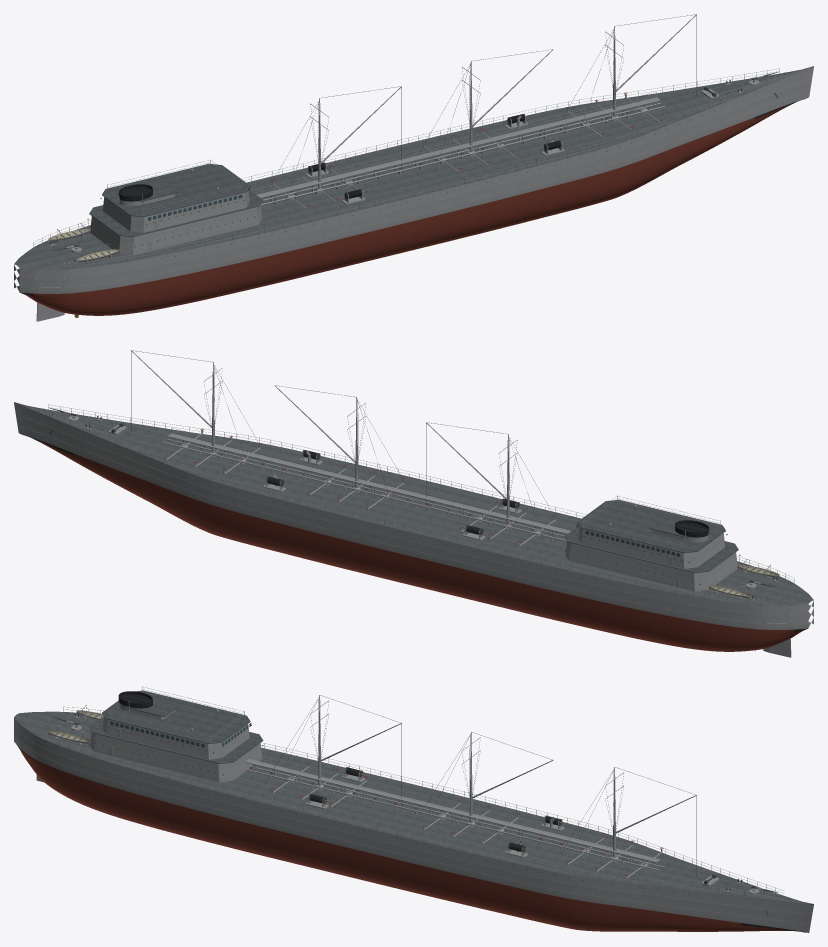
File: de_support_1942.glb
3 views of the same model, one above another, from view 1: azimuth 30°, elevation 25°; view 2: azimuth 150°, elevation 25°; view 3: azimuth 330°, elevation 25° (orthographic).
Visible parts, largest first — view 1: Fleet support ship · 1942; view 2: Fleet support ship · 1942; view 3: Fleet support ship · 1942.
Boxes of the visible parts, box(x1,y1,x2,y2) form: Fleet support ship · 1942: box(14, 14, 813, 321); Fleet support ship · 1942: box(14, 350, 813, 657); Fleet support ship · 1942: box(14, 686, 813, 932).
Size of the model in its own units: 154 by 29.11 by 19.09.
Materials: 10 (9 with a texture image).
